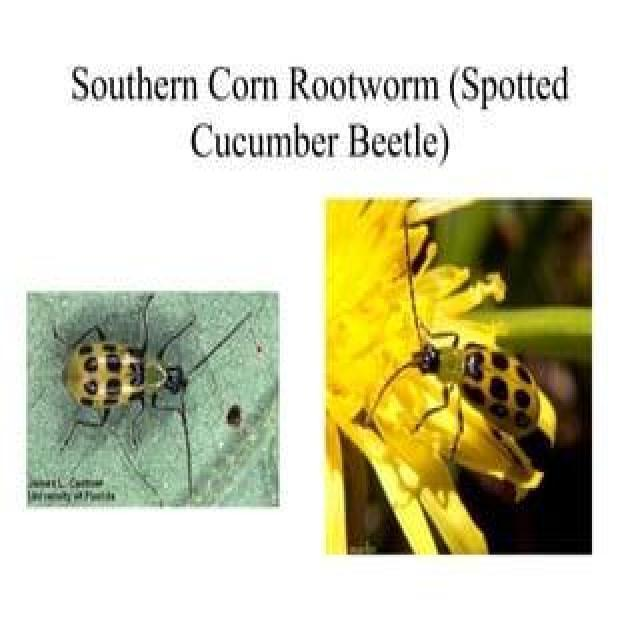gusano_verde: (364, 216, 540, 467), (52, 294, 256, 504)
